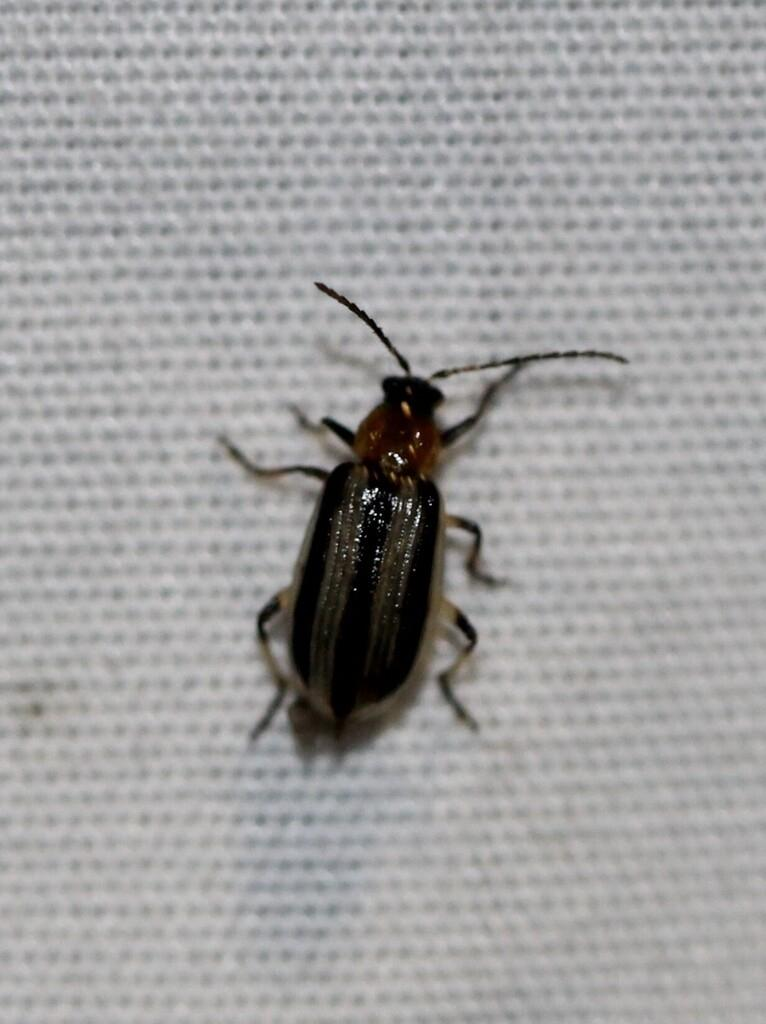potato_beetle: (146, 217, 687, 836)
